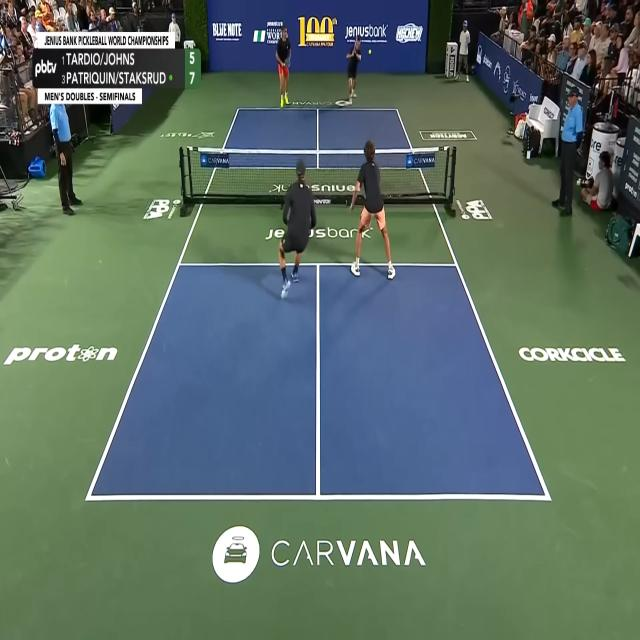ball: (368, 49, 372, 56)
